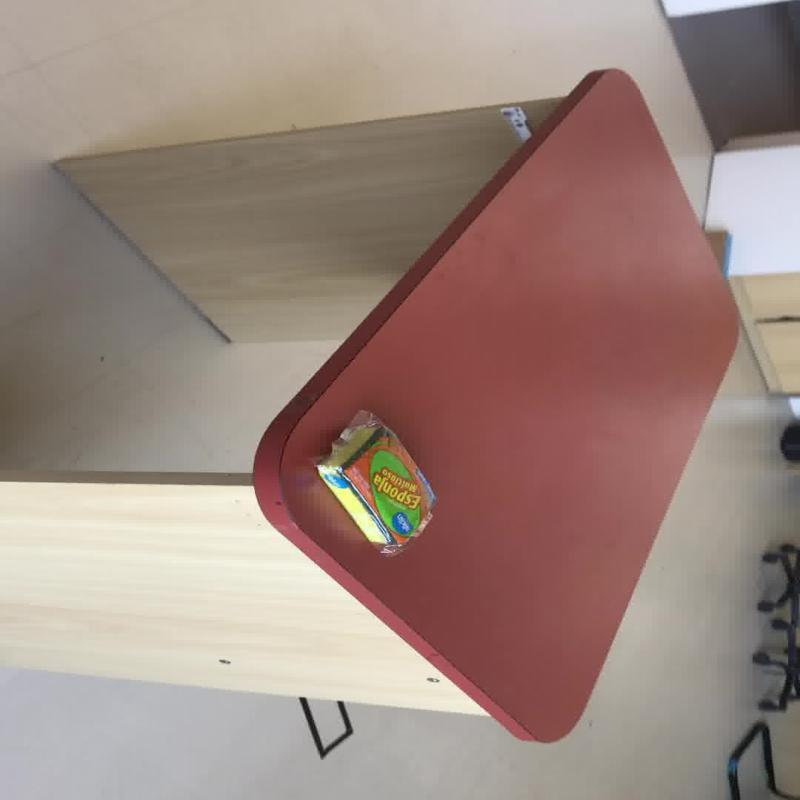sponge: (312, 409, 436, 555)
